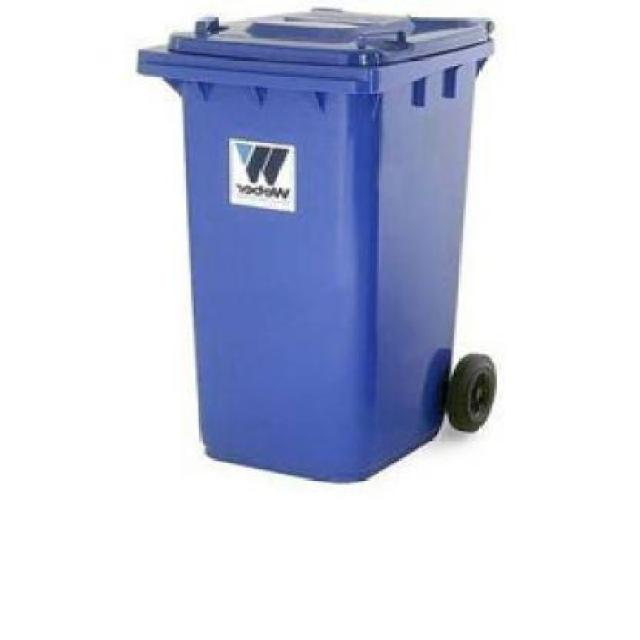garbage container: (112, 6, 516, 486)
